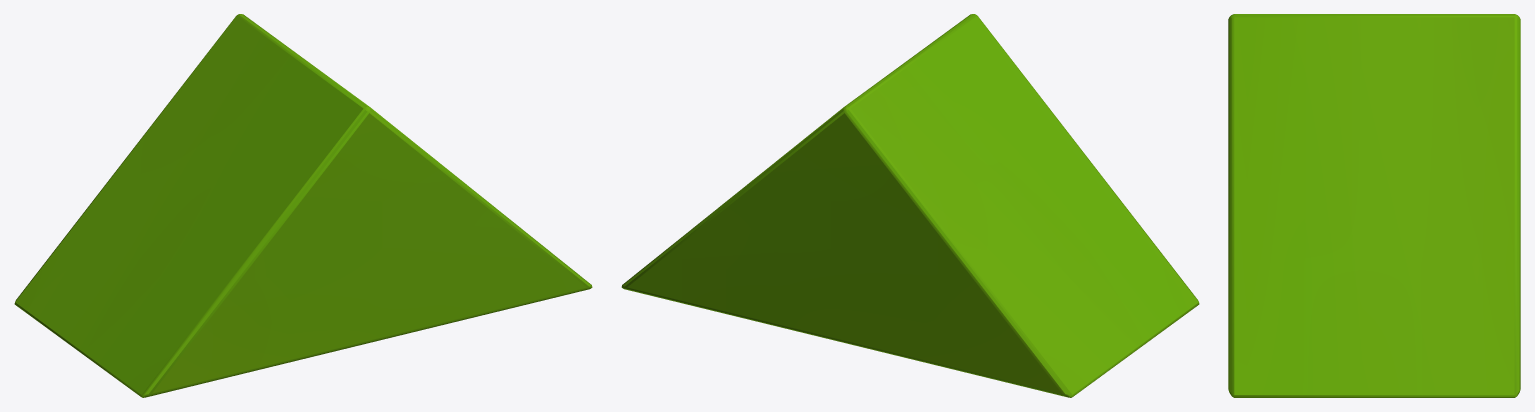
The model's file is 2SidedWedgeGreen.fbx.
3 views of the same model, side by side, from view 1: azimuth 30°, elevation 25°; view 2: azimuth 150°, elevation 25°; view 3: azimuth 270°, elevation 25° (orthographic). The views are drawn at different scales.
Parts seen in each view (by area): view 1: Wedge.001; view 2: Wedge.001; view 3: Wedge.001.
Boxes of the visible parts, x1,y1,x2,y2 form: Wedge.001: [14, 14, 592, 397]; Wedge.001: [621, 14, 1199, 397]; Wedge.001: [1228, 14, 1520, 397].
Size of the model in its own units: 3.95 by 1.98 by 2.
